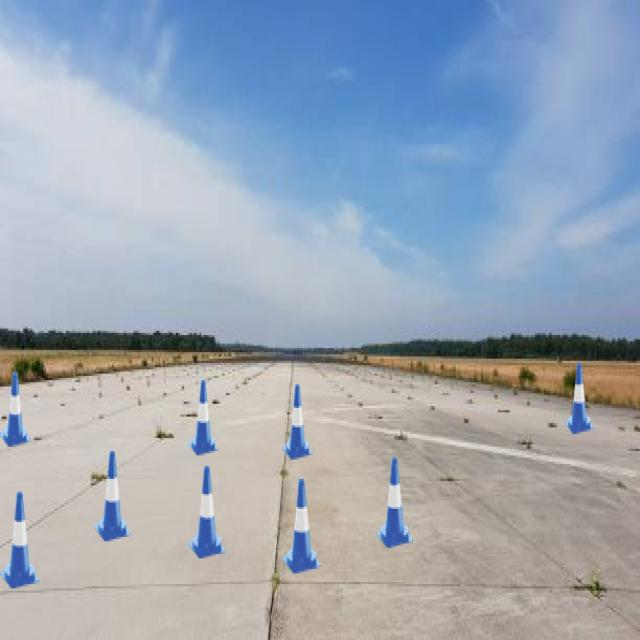blue_cone: (0, 492, 40, 588), (282, 479, 321, 573), (188, 466, 226, 558), (94, 451, 131, 541), (377, 458, 413, 548), (282, 384, 313, 460), (188, 380, 219, 455), (0, 371, 30, 444), (0, 373, 30, 446), (565, 363, 594, 434)
